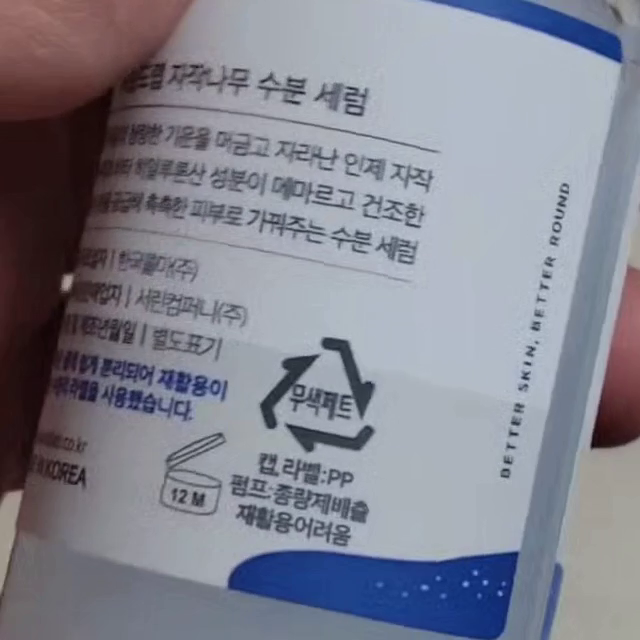ColorlessPet: (260, 337, 378, 453)
